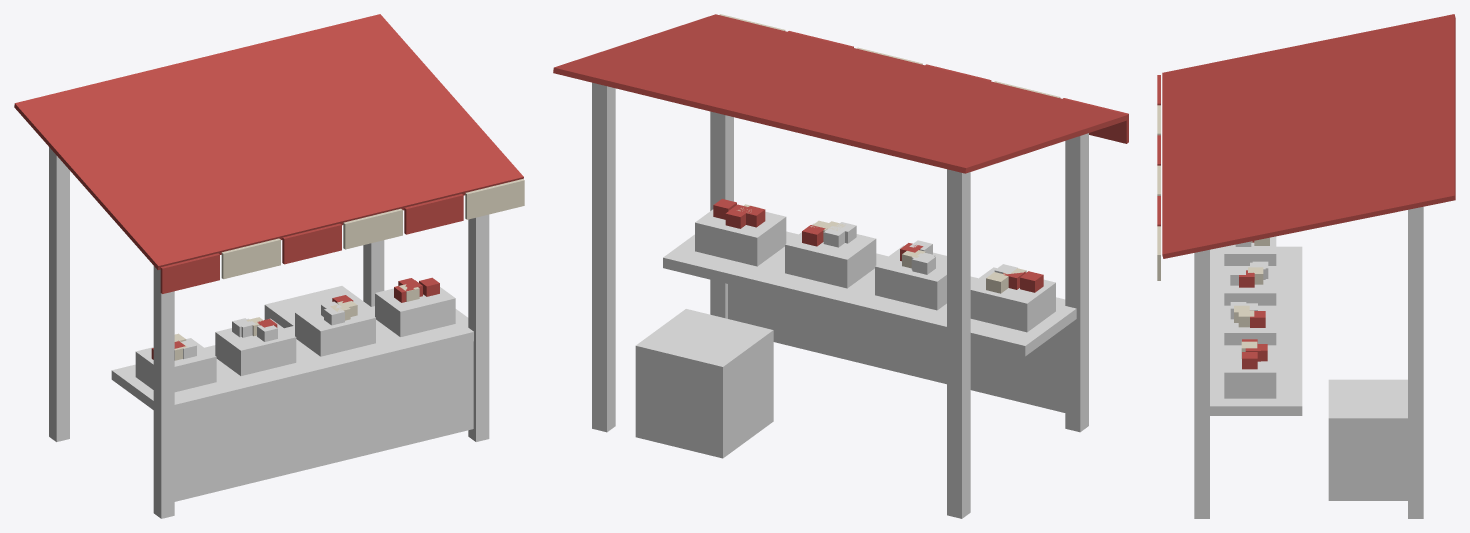
Rendered from market_stall_red.glb.
3 views of the same model, side by side, from view 1: azimuth 30°, elevation 25°; view 2: azimuth 150°, elevation 25°; view 3: azimuth 270°, elevation 25° (orthographic). The views are drawn at different scales.
Visible parts, largest first — view 1: market_stall_red; view 2: market_stall_red; view 3: market_stall_red.
Boxes of the visible parts, bbox=[...] form: market_stall_red: bbox=[14, 14, 524, 518]; market_stall_red: bbox=[553, 14, 1128, 518]; market_stall_red: bbox=[1157, 14, 1455, 518].
Bounding box in the file's own units: 3.3 × 2.82 × 2.29.
